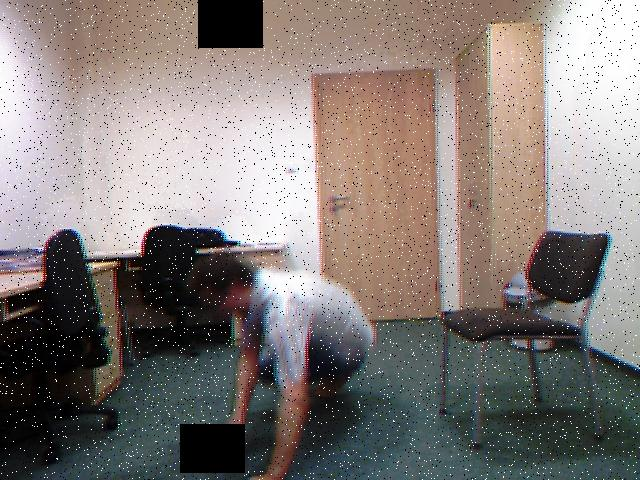fall: (178, 248, 373, 480)
